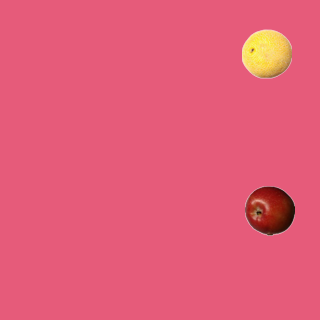Apple Braeburn: (244, 185, 294, 235)
Cantaloupe 1: (241, 28, 291, 78)
